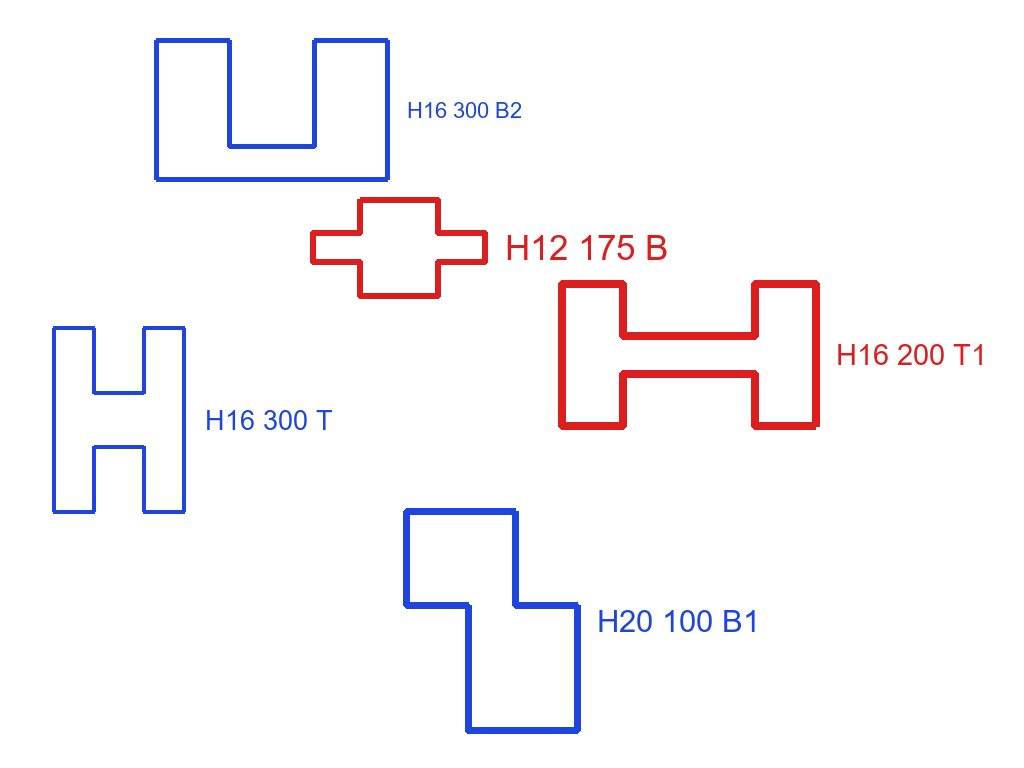shape: (401, 506, 583, 736), (557, 277, 822, 432), (152, 36, 392, 184), (49, 325, 189, 516), (308, 194, 490, 301)
text: (503, 233, 670, 262), (595, 608, 762, 634), (834, 342, 989, 367), (203, 408, 335, 432), (405, 100, 524, 120)
